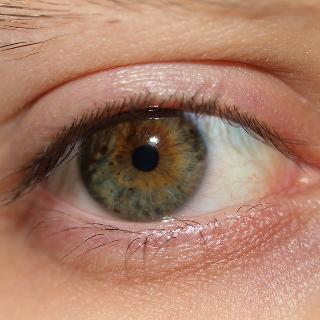pupil: (132, 145, 159, 171)
